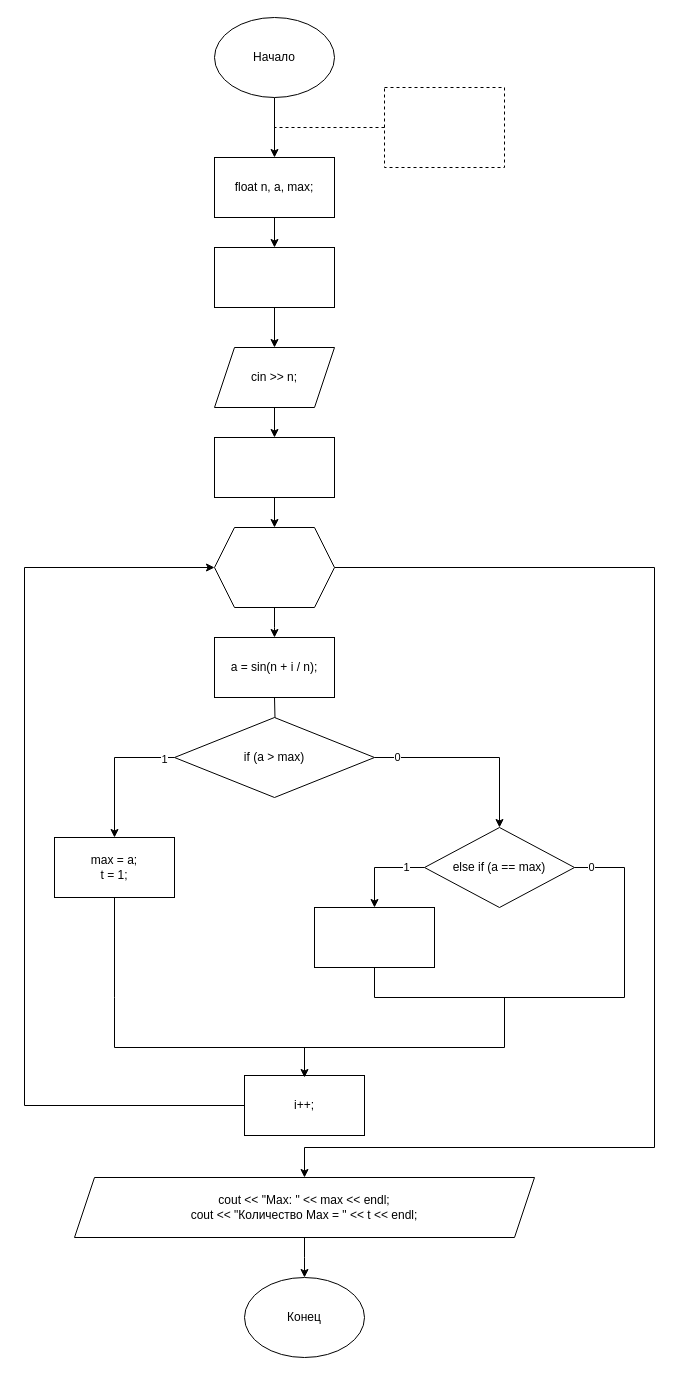
Some shapes in this 680 by 1375 pixel diagram are drawn without their labels. Each missing label, with the centre of its shape:
#include<iostream> using namespace std; int main(){ setlocale(LC_ALL, "RUS");}: the point at 444,127
int i = 2, t = 1;: the point at 274,277
max = sin(n + 1 / n);: the point at 274,467
t += 1;: the point at 374,937
while (i <= n): the point at 274,567
